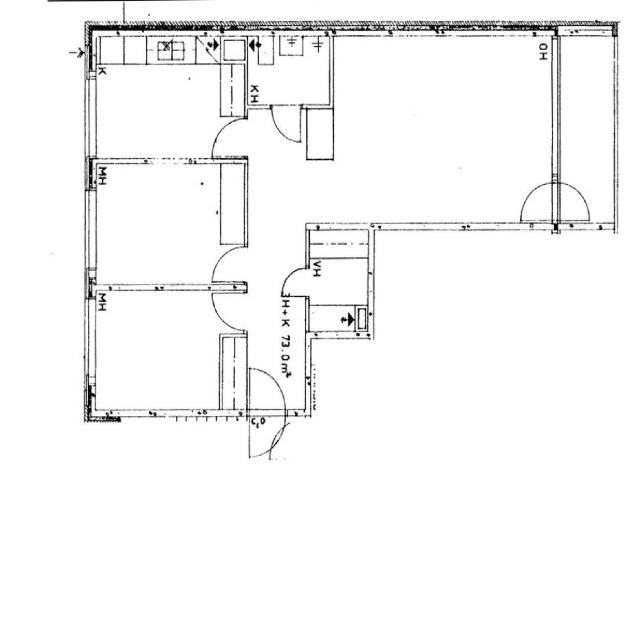door: (246, 363, 286, 415), (209, 287, 249, 332), (208, 242, 248, 286), (518, 177, 556, 222), (210, 116, 247, 158), (556, 178, 591, 222), (269, 103, 304, 144), (280, 264, 312, 298)
window: (80, 187, 101, 275), (80, 299, 100, 385), (80, 75, 100, 160)
zone: (328, 32, 555, 232), (88, 288, 237, 417), (90, 164, 237, 290), (90, 50, 238, 158), (556, 32, 618, 225), (246, 29, 333, 107), (307, 249, 371, 335), (99, 29, 220, 65)
